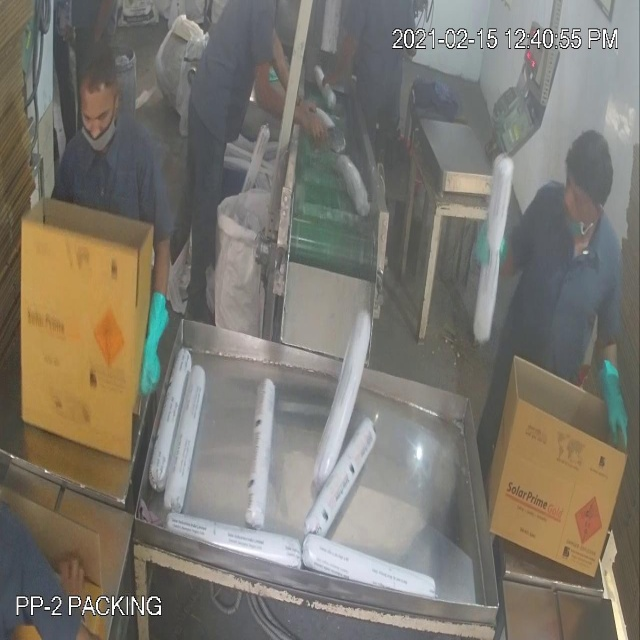Guantes: (583, 332, 640, 464), (128, 268, 176, 409)
Sin_guantes: (250, 60, 334, 145)
